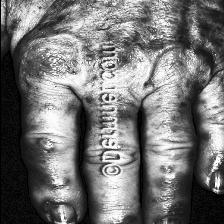Non-Cancerous Skin Condition: (127, 0, 212, 94), (26, 26, 86, 82), (17, 132, 73, 190), (156, 188, 190, 216), (198, 154, 224, 180)
